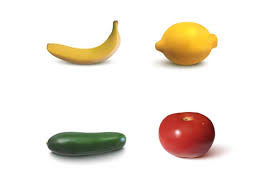banana: (45, 20, 122, 66)
tomato: (158, 112, 215, 160)
